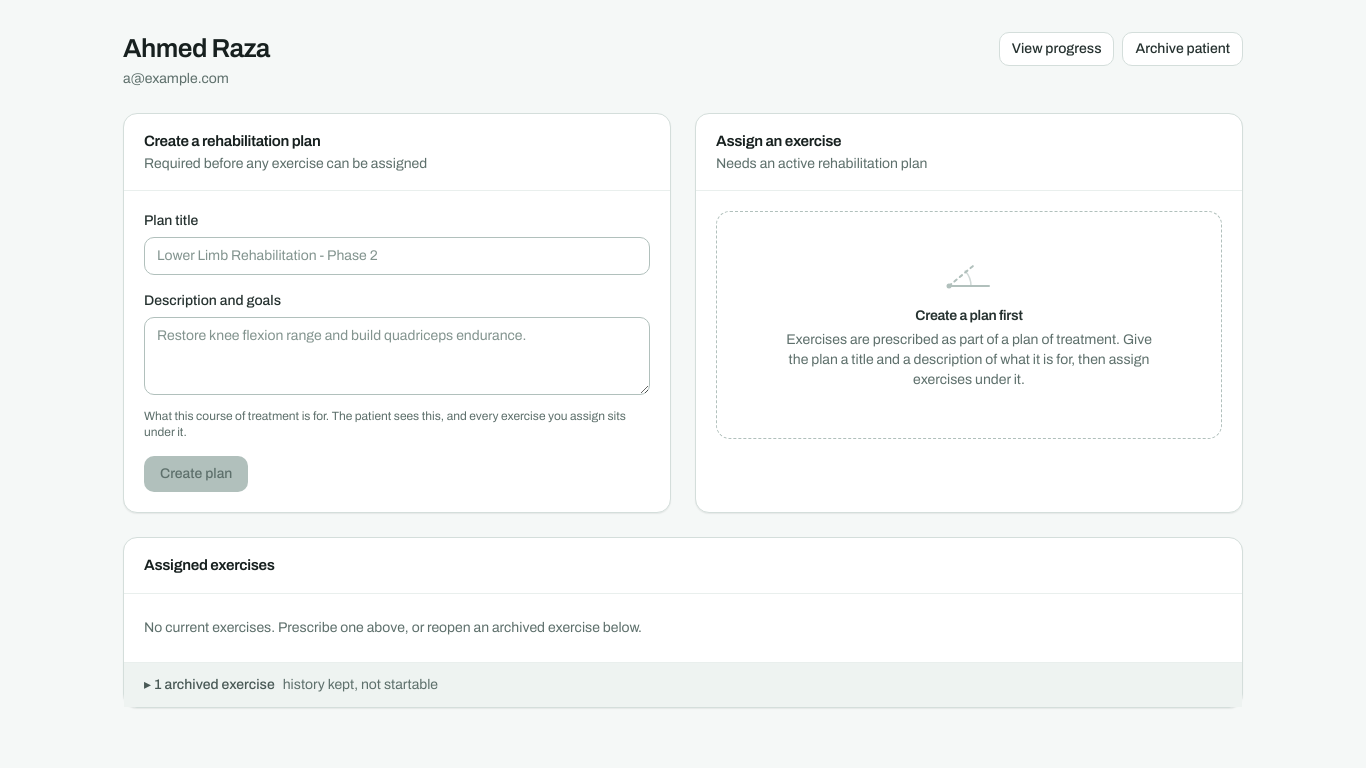
Assignment actions › offers only Reopen on an archived assignment
The width and height of the screenshot is (1366, 768).
Click the button "1 archived exercise" at [218, 684], box [124,662,1242,706]
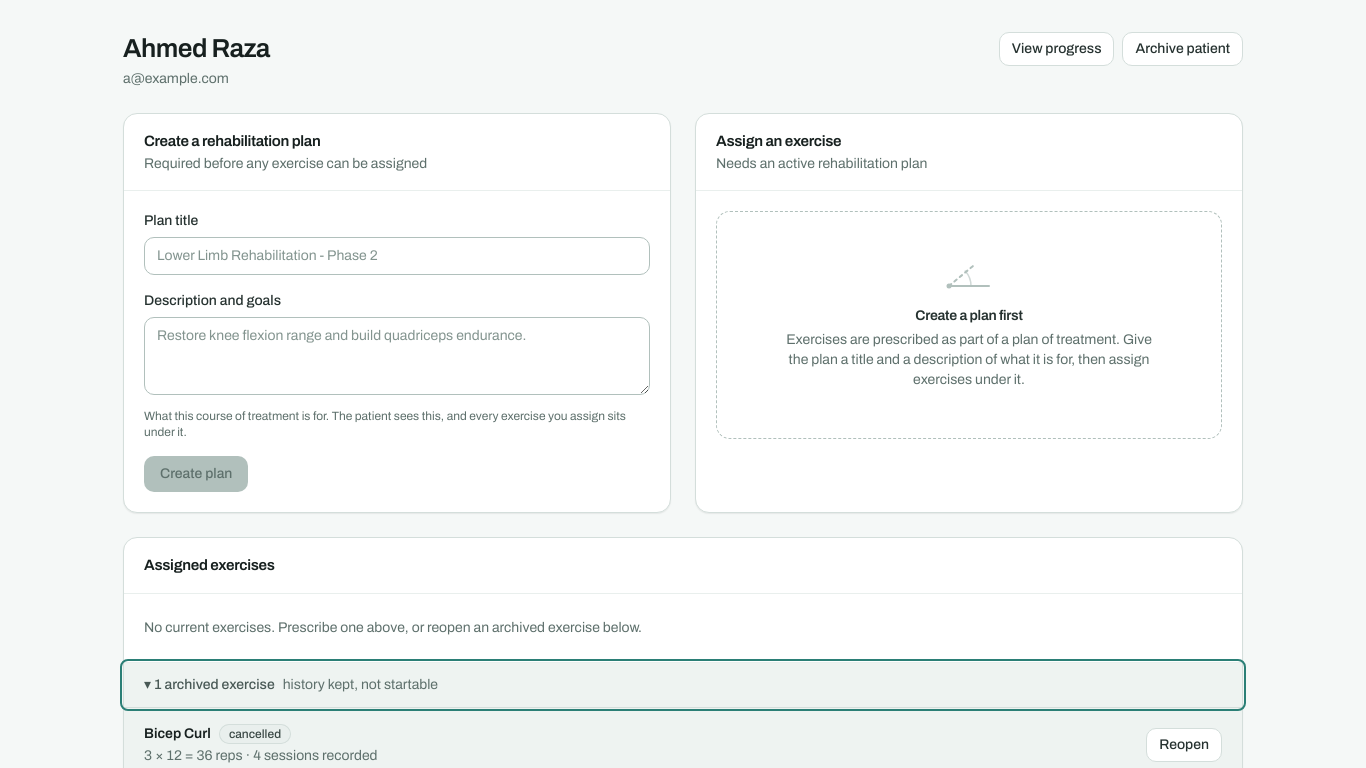
Expected: the text "Bicep Curl" is shown, [144,724,211,744]
Expected: the button "Reopen" is shown, [1146,728,1222,762]
